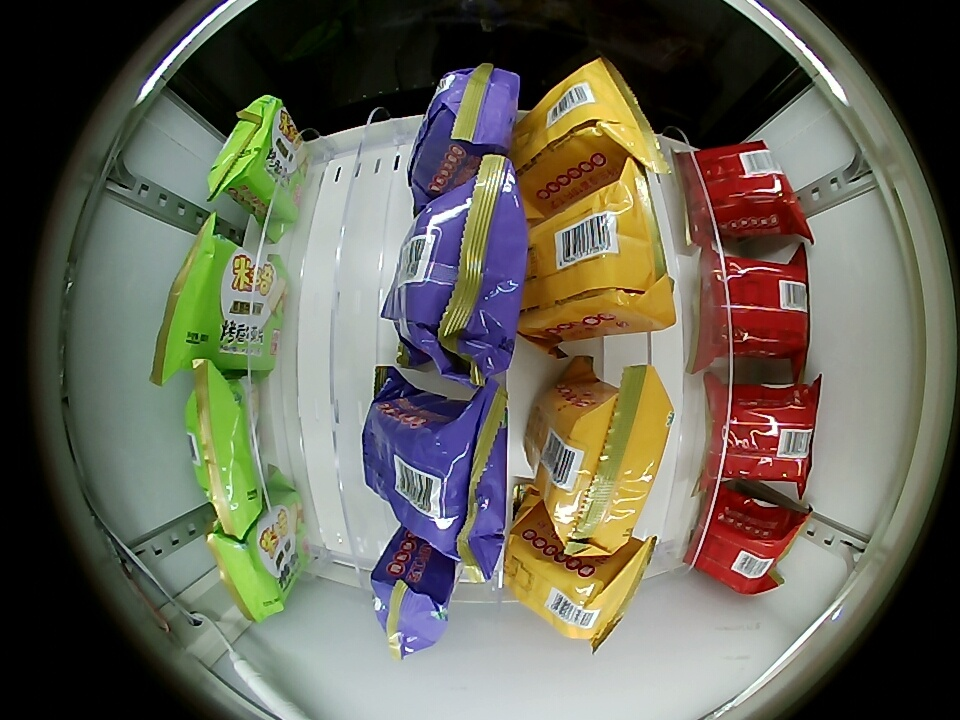kaomo_gali: (529, 364, 674, 555), (528, 171, 670, 339), (520, 61, 661, 195), (502, 520, 650, 643)
kaomo_jiaoyan: (384, 160, 530, 374), (365, 378, 507, 564), (408, 64, 523, 202), (371, 533, 457, 657)
kaomo_shaokao: (683, 142, 807, 242), (695, 487, 809, 593), (698, 256, 811, 360), (705, 383, 819, 484)
kaomo_xiangcon: (157, 232, 285, 375), (186, 374, 268, 527), (209, 494, 301, 622), (206, 95, 299, 218)
